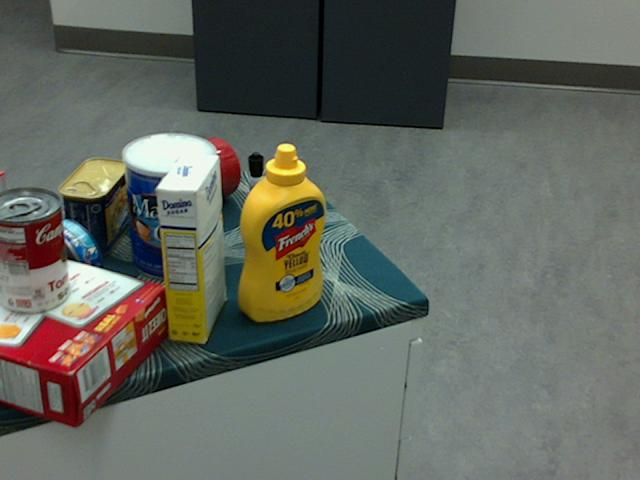cracker_box: (0, 239, 167, 427)
gelatin_box: (0, 171, 10, 232)
large_marker: (248, 151, 265, 244)
master_chef_can: (120, 132, 216, 281)
mug: (150, 137, 239, 215)
mustard_bottle: (237, 142, 326, 321)
potted_meat_can: (58, 156, 129, 257)
sugar_box: (154, 152, 226, 343)
tomato_soup_can: (0, 187, 69, 314)
tuna_fish_can: (22, 218, 101, 301)
